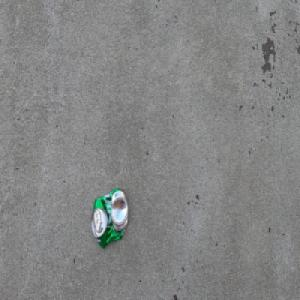SodaCan: (90, 187, 129, 249)
